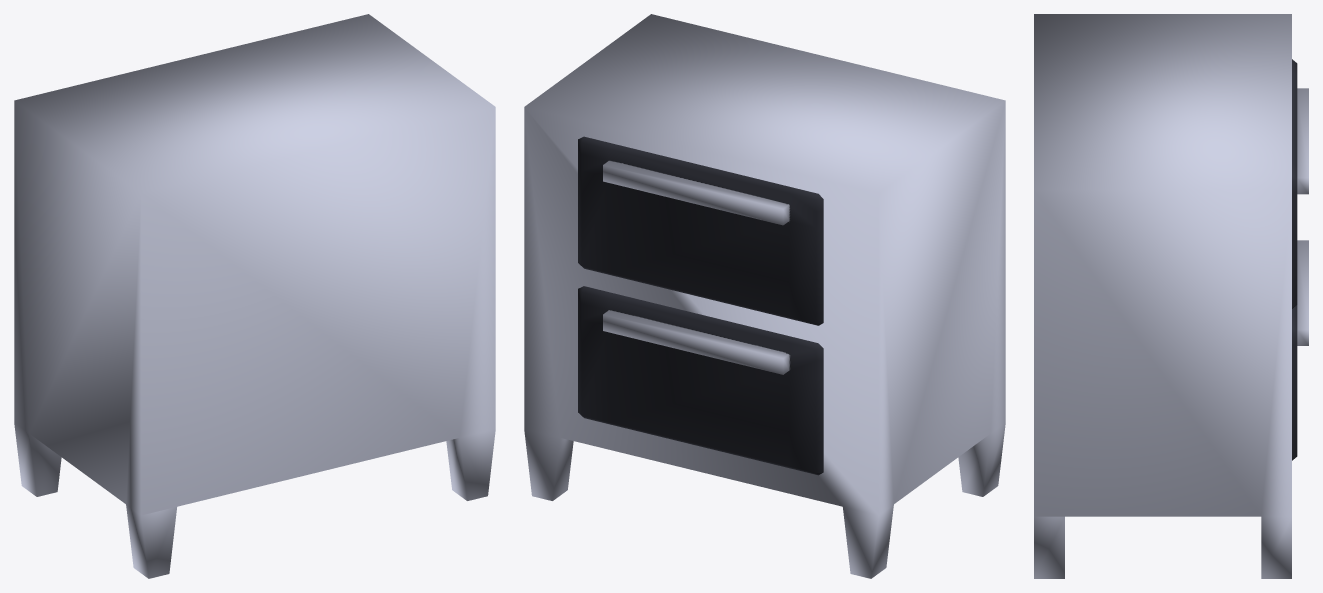
File: NightstandTest.fbx
3 views of the same model, side by side, from view 1: azimuth 30°, elevation 25°; view 2: azimuth 150°, elevation 25°; view 3: azimuth 270°, elevation 25° (orthographic).
Parts seen in each view (by area): view 1: Legs; view 2: Legs, Drawer2; view 3: Legs, Drawer2.
Boxes of the visible parts, box(x1,y1,x2,y2) form: Legs: box(14, 14, 495, 578); Legs: box(524, 14, 1005, 578); Drawer2: box(578, 136, 823, 475); Legs: box(1034, 14, 1291, 578); Drawer2: box(1292, 59, 1308, 460).
Bounding box in the file's own units: 305 × 319 × 202.
